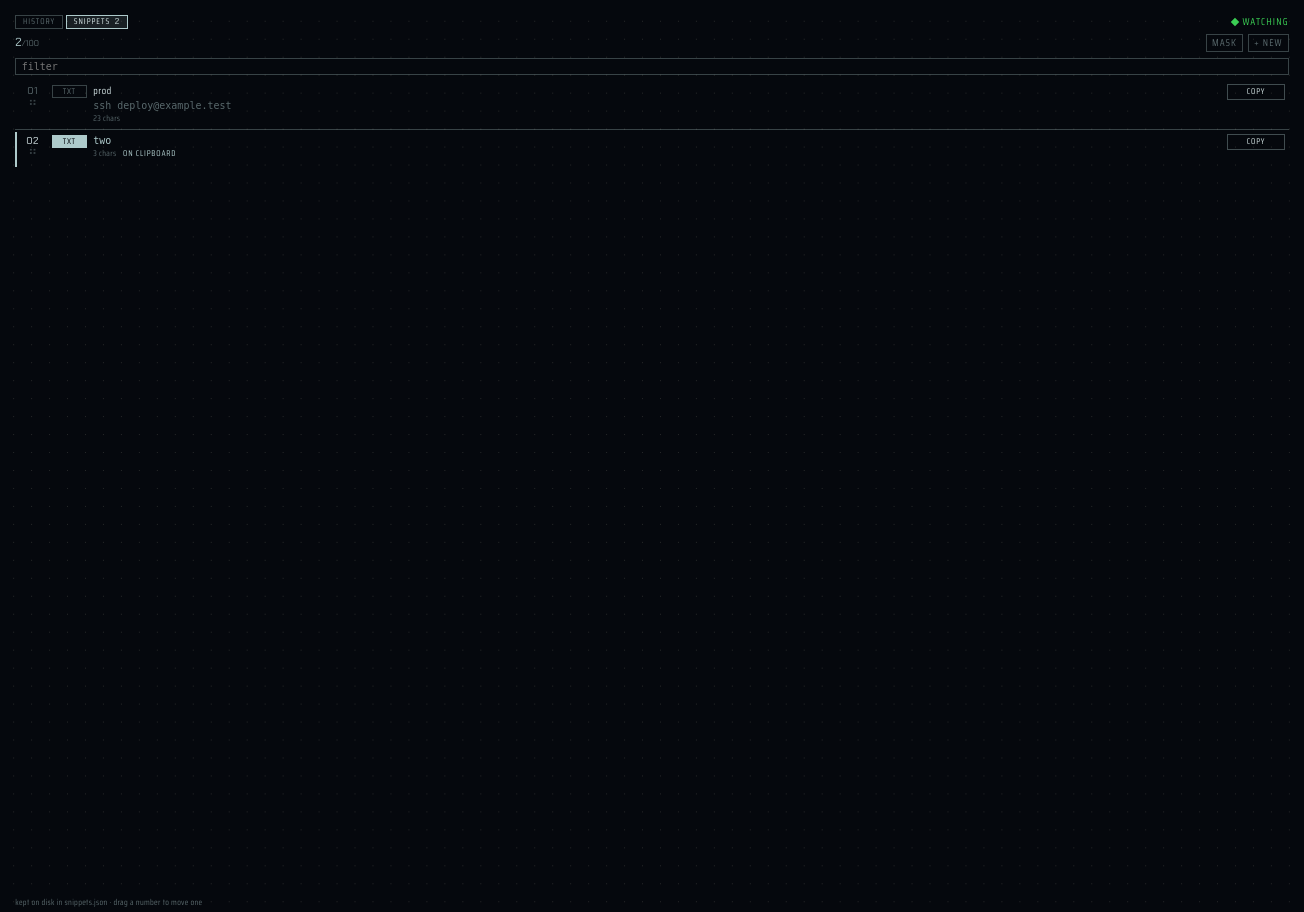
Test case: ClipboardWidget: snippets › lists snippets in their slots, marks the one on the clipboard, and copies by id
Expected: the text with test id "snip-name" reads "prod", 93,83 -> 112,98
Expected: the element with test id "snip-row" shows "01", 27,84 -> 38,98
Step 1. Click the button with test id "snip-copy" in the row of "prod" → (1256, 92), box 1227,84 -> 1285,100
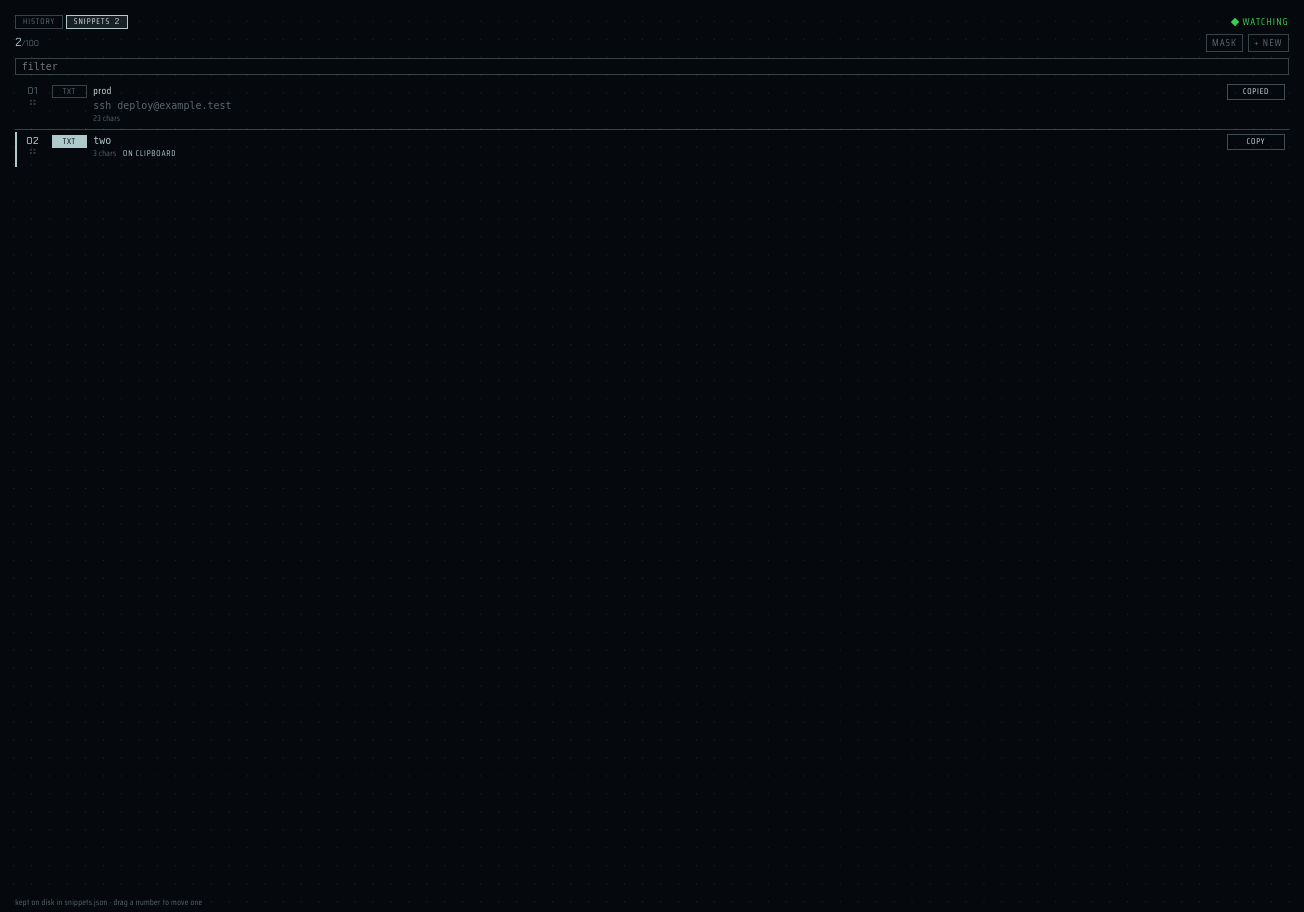
Expected: the button with test id "snip-copy" reads "COPIED", 1227,84 -> 1285,100
